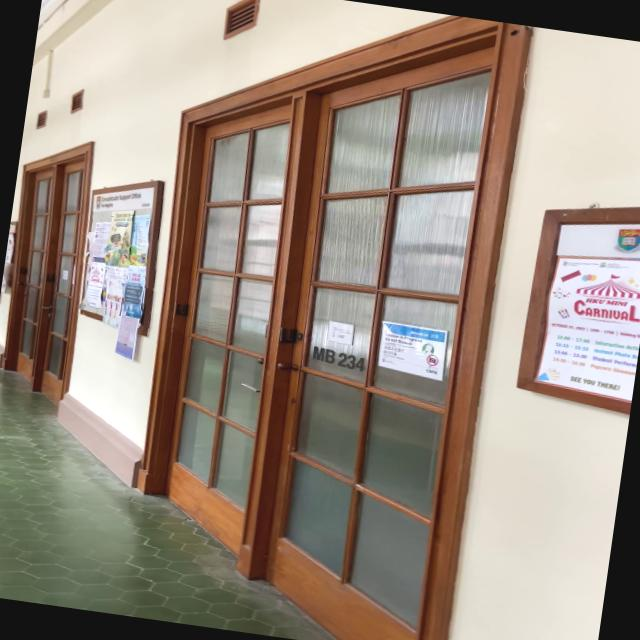room234Window: (308, 342, 369, 373)
